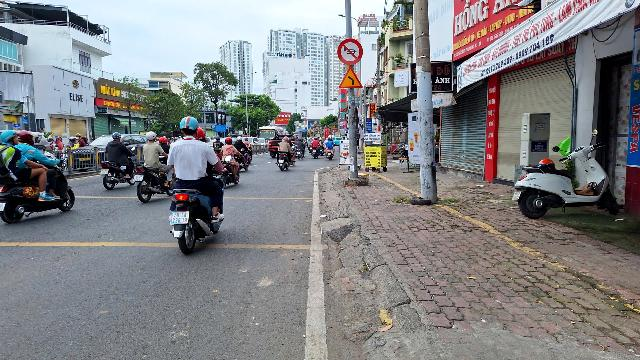cam-bop-coi: (337, 38, 363, 65)
cho-ngoat-nguy-hiem-ben-trai: (338, 66, 363, 88)
